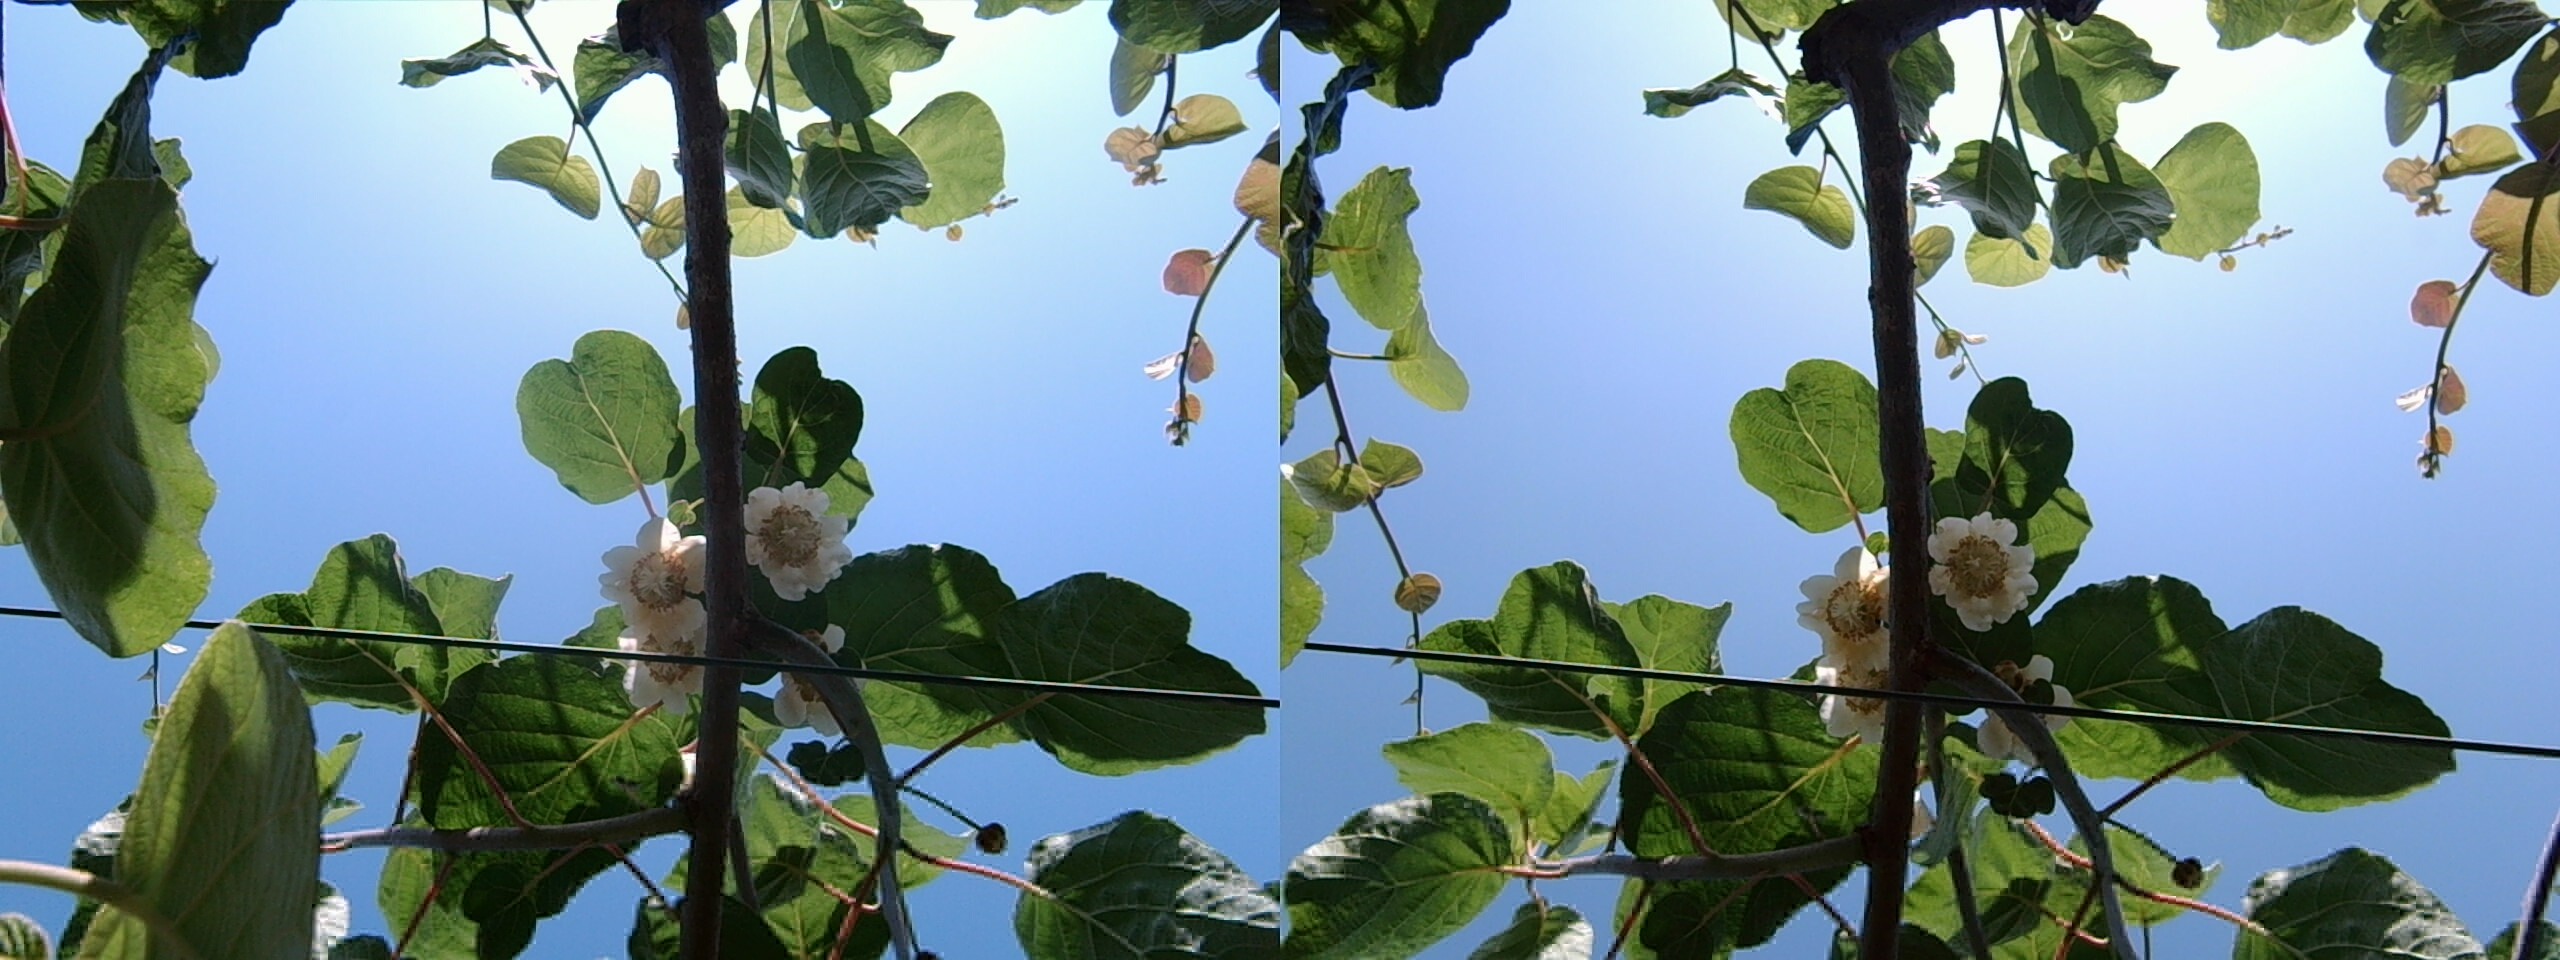flower: (596, 514, 709, 704), (1796, 550, 1891, 735), (733, 478, 864, 589), (1918, 509, 2046, 620)
